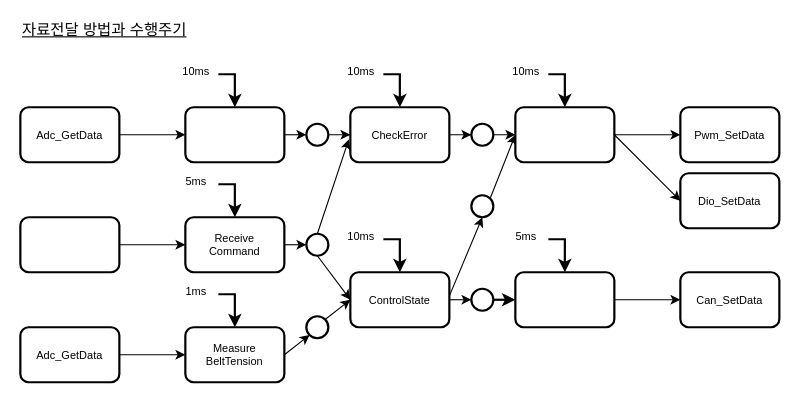
Some shapes in this 799 by 402 pixel diagram are drawn without their labels. The shapes that lost their labels are listed below. From the top down, each one's centre as x and y in pixels, then its label:
(x=234, y=134): Measure SupplyVoltage
(x=564, y=134): DriveMotor
(x=69, y=244): Can_GetData
(x=564, y=299): Transmit State
